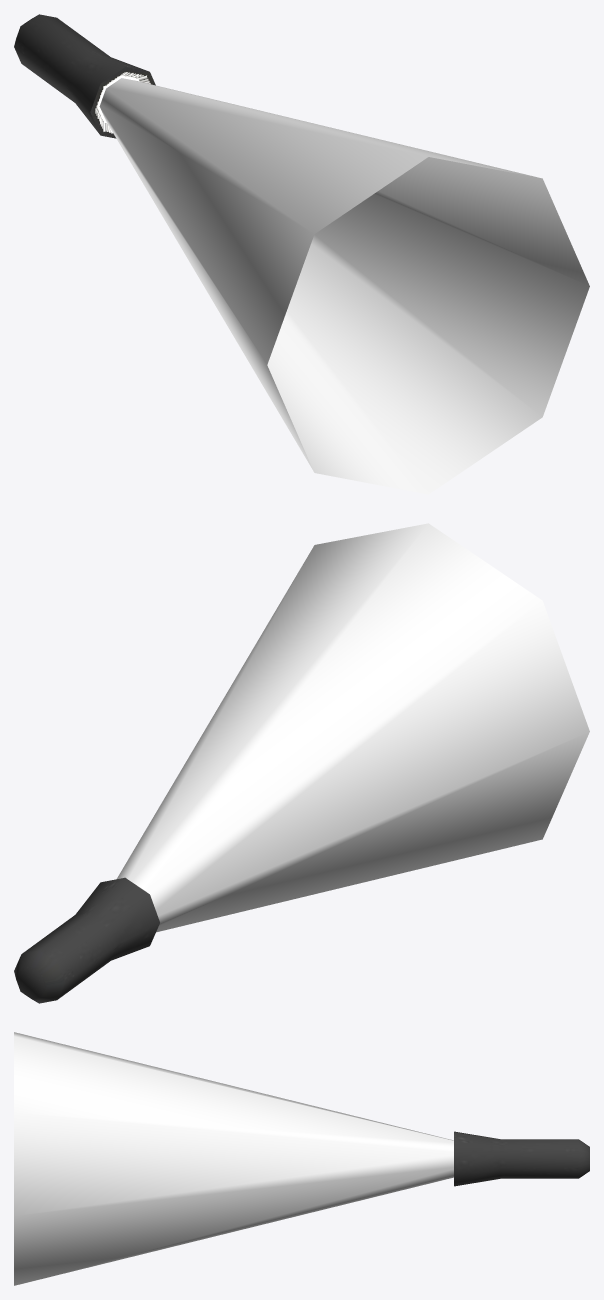
File: FlashLight.fbx
3 views of the same model, one above another, from view 1: azimuth 30°, elevation 25°; view 2: azimuth 150°, elevation 25°; view 3: azimuth 270°, elevation 25° (orthographic). The views are drawn at different scales.
Visible parts, largest first — view 1: FlashLightRay, FlashLight; view 2: FlashLightRay, FlashLight; view 3: FlashLightRay, FlashLight.
Boxes of the visible parts, box(x1,y1,x2,y2) form: FlashLightRay: box(99, 78, 589, 494); FlashLight: box(14, 14, 155, 138); FlashLightRay: box(117, 523, 589, 932); FlashLight: box(14, 877, 159, 1003); FlashLightRay: box(14, 1032, 453, 1285); FlashLight: box(454, 1131, 589, 1186).
Size of the model in its own units: 0.2906 by 0.2906 by 0.6196.
